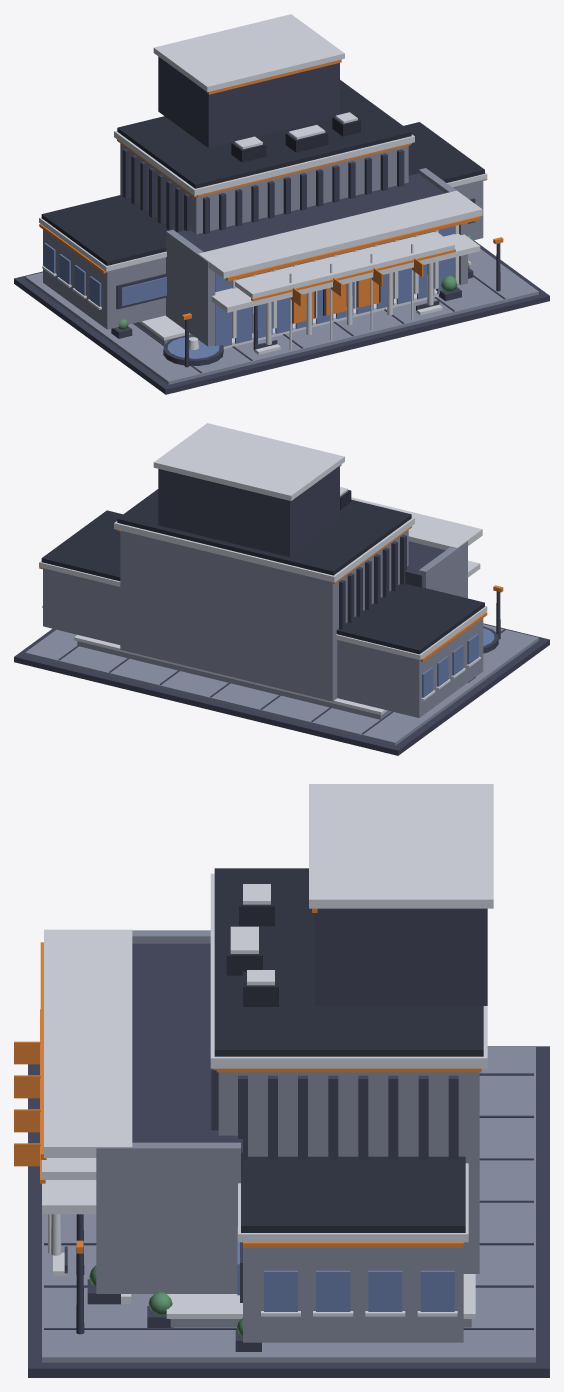
Rendered from philharmonic.glb.
3 renders of one model, top to bottom at view 1: azimuth 30°, elevation 25°; view 2: azimuth 150°, elevation 25°; view 3: azimuth 270°, elevation 25°, orthographic. The views are drawn at different scales.
Visible parts, largest first — view 1: entranceStep, groundPad, padTop, auditoriumRoof, foyerGlassLower, corniceAccentFront; view 2: padTop, groundPad, entranceStep, auditoriumRoof, foyerGlassLower, corniceAccentFront; view 3: padTop, groundPad, entranceStep, auditoriumRoof, corniceAccentFront, foyerGlassLower.
Boxes of the visible parts, x1,y1,x2,y2 form: entranceStep: (39, 14, 487, 354); groundPad: (14, 56, 549, 394); padTop: (25, 143, 538, 384); auditoriumRoof: (41, 80, 484, 265); foyerGlassLower: (44, 226, 454, 358); corniceAccentFront: (39, 59, 503, 323); padTop: (25, 530, 538, 745); groundPad: (14, 466, 549, 755); entranceStep: (39, 423, 487, 715); auditoriumRoof: (41, 489, 484, 654); foyerGlassLower: (422, 628, 494, 697); corniceAccentFront: (39, 464, 503, 661); padTop: (42, 930, 535, 1362); groundPad: (28, 908, 549, 1377); entranceStep: (42, 784, 493, 1318); auditoriumRoof: (214, 868, 483, 1232); corniceAccentFront: (14, 908, 481, 1253); foyerGlassLower: (237, 1226, 454, 1311).
Size of the model in its own units: 38 by 20.6 by 26.7.
